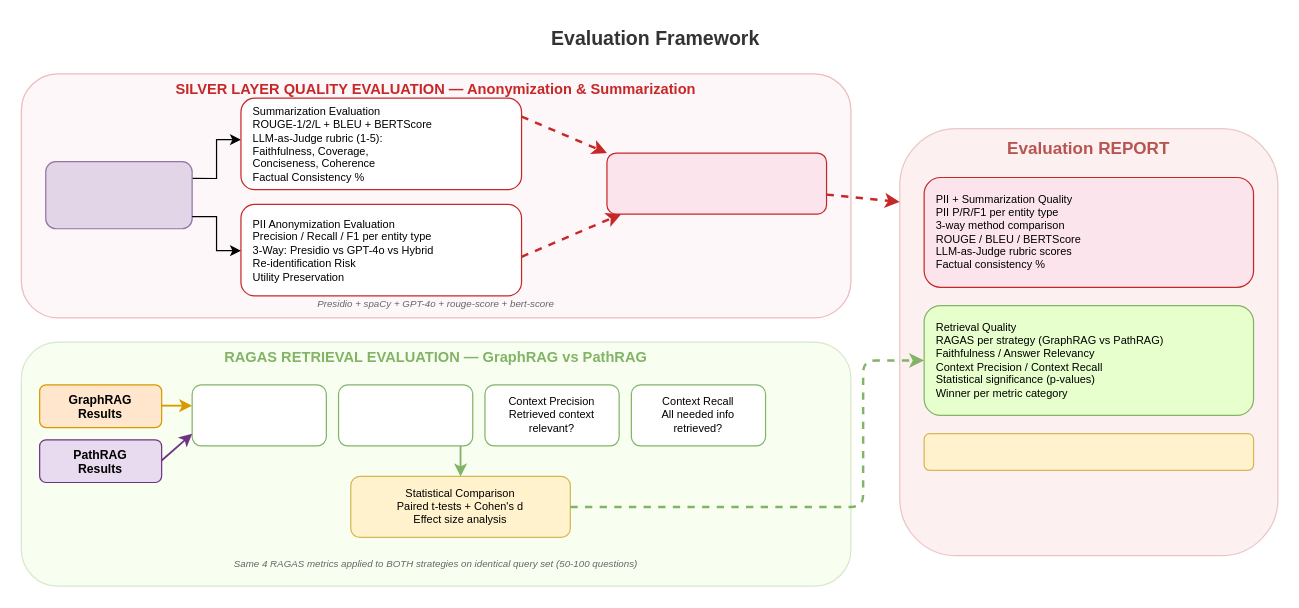
This 1299x608 diagram has some shape labels left out. The box of each missing label's shape, as (x1, y1, x2, y2) in pixels:
Answer Relevancy Answer addresses question?: (337, 384, 473, 446)
Conclusion: (923, 432, 1254, 470)
Faithfulness Answer grounded in context?: (191, 384, 326, 446)
PII + Summarization metrics combined: (606, 152, 827, 214)
Silver Outputs + Ground Truth (50-100 emails): (45, 160, 192, 229)
